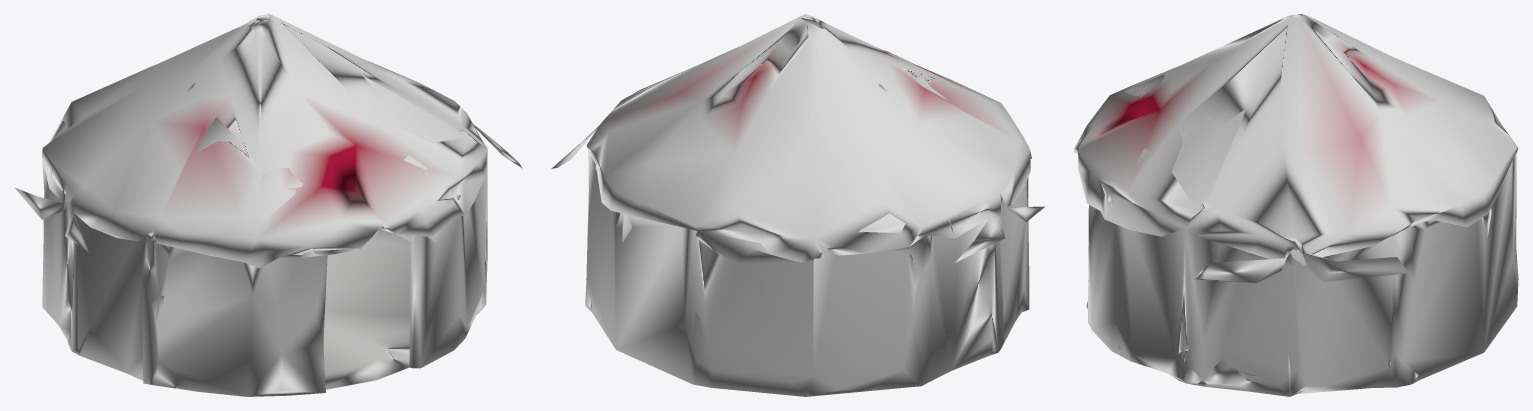
File: gen3d-medical-tent-lod1.glb
The picture shows the model from 3 angles, left to right: view 1: azimuth 30°, elevation 25°; view 2: azimuth 150°, elevation 25°; view 3: azimuth 270°, elevation 25°; orthographic projection.
Parts seen in each view (by area): view 1: part_0; view 2: part_0; view 3: part_0.
Boxes of the visible parts, left/top/right/bottom form: part_0: left=15, top=14, right=522, bottom=396; part_0: left=551, top=14, right=1045, bottom=396; part_0: left=1074, top=14, right=1518, bottom=396.
Bounding box in the file's own units: 1.53 × 1 × 1.39.
